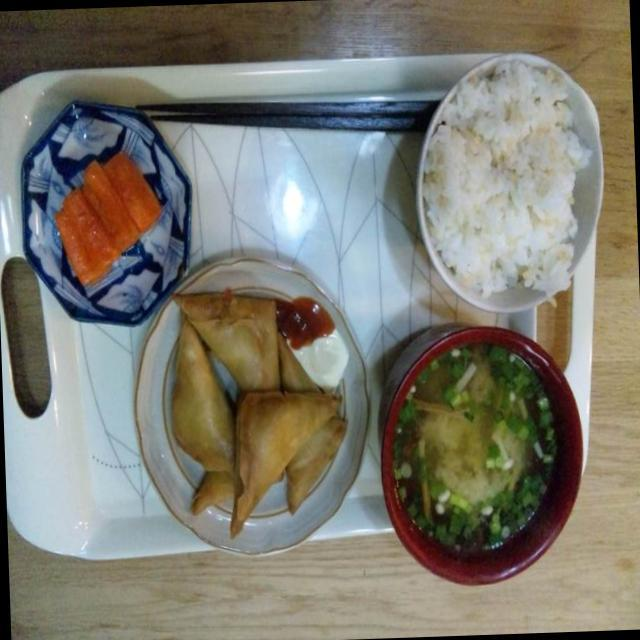Rice: (407, 30, 614, 319)
